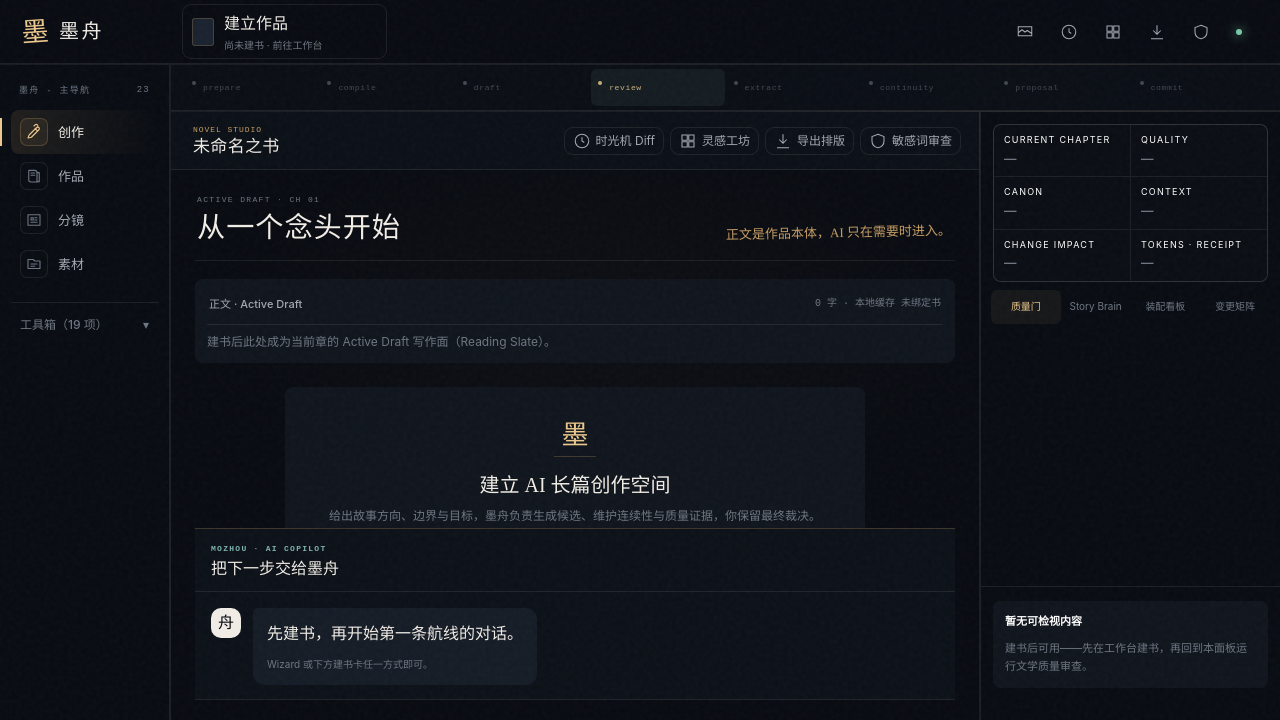
Scenario: App 壳集成（T40） › 检视组导航点击切到中栏显式占位与检视塔联动
Click the button with test id "nav-toolbox-toggle" at point(84, 321), box left=11, top=302, right=158, bottom=340
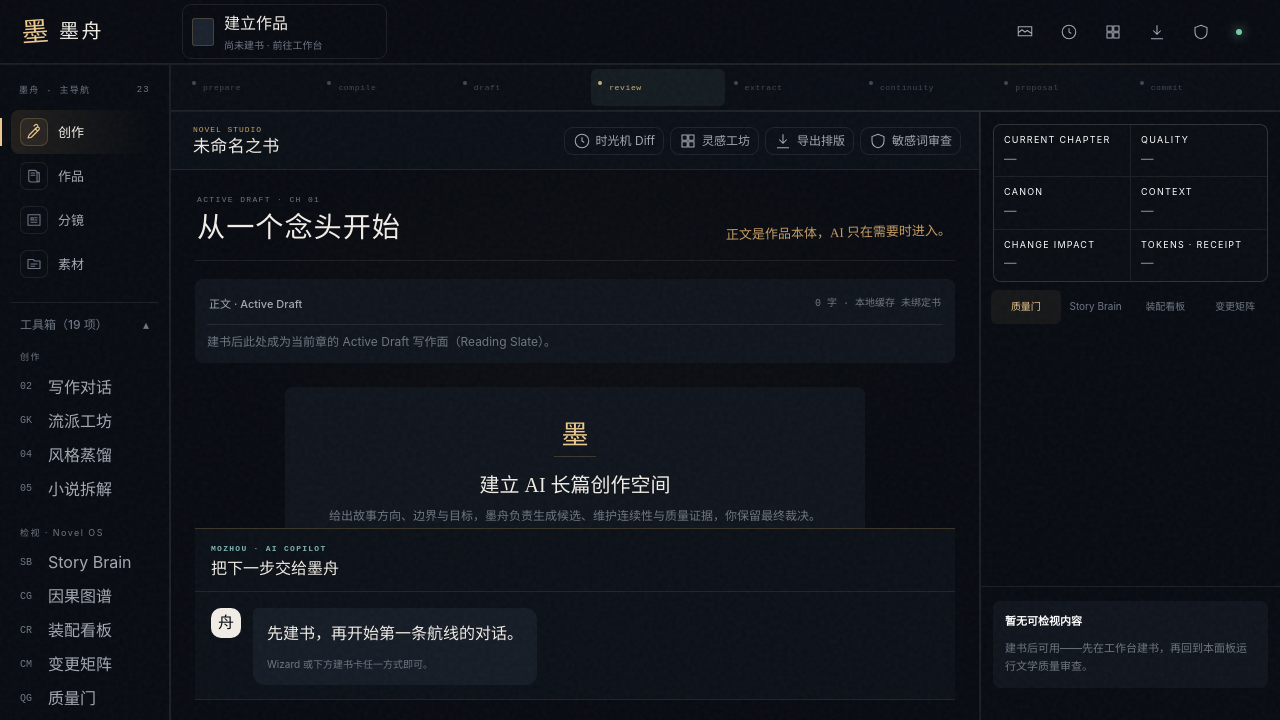
Click the button "CR 装配看板" at point(84, 630), box left=11, top=613, right=158, bottom=647
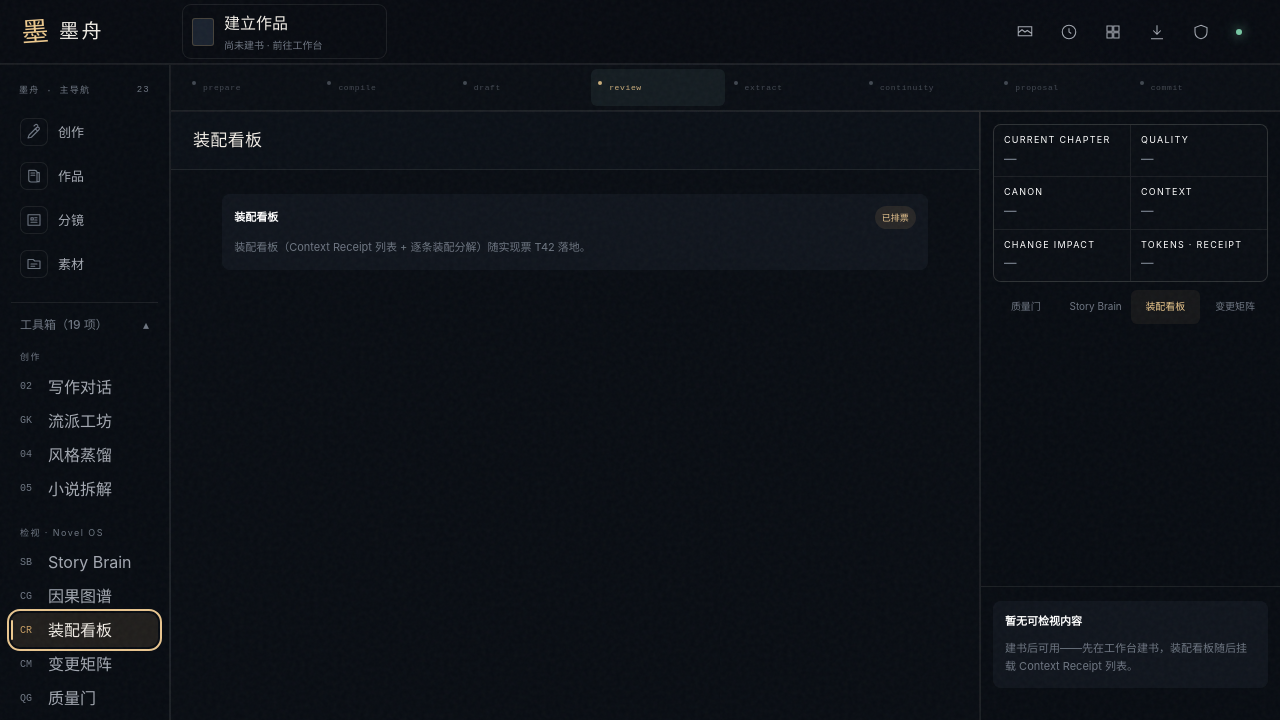
Check: the element with test id "inspector-empty" shows "装配看板", box left=1005, top=641, right=1247, bottom=673
